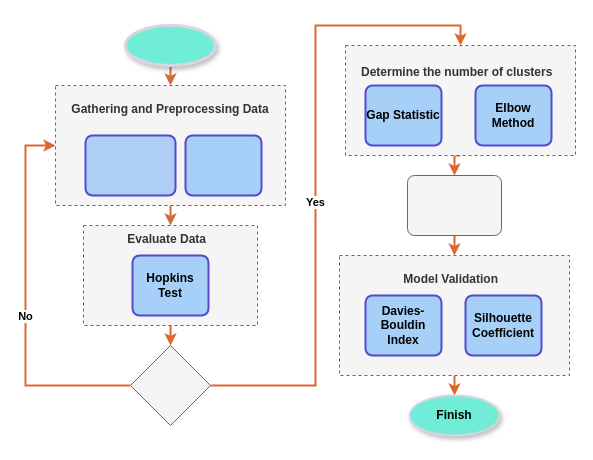
The diagram is 593 pixels wide and 460 high, and some of its shapes have lost their labels. Here are the shapes that lost their labels. From the top down, the centre of each, then its label:
point 171,47: Start
point 130,165: Data Transformation
point 223,165: Data Gathering
point 454,205: Apply spectral clustering
point 170,385: Is it appropriate?
